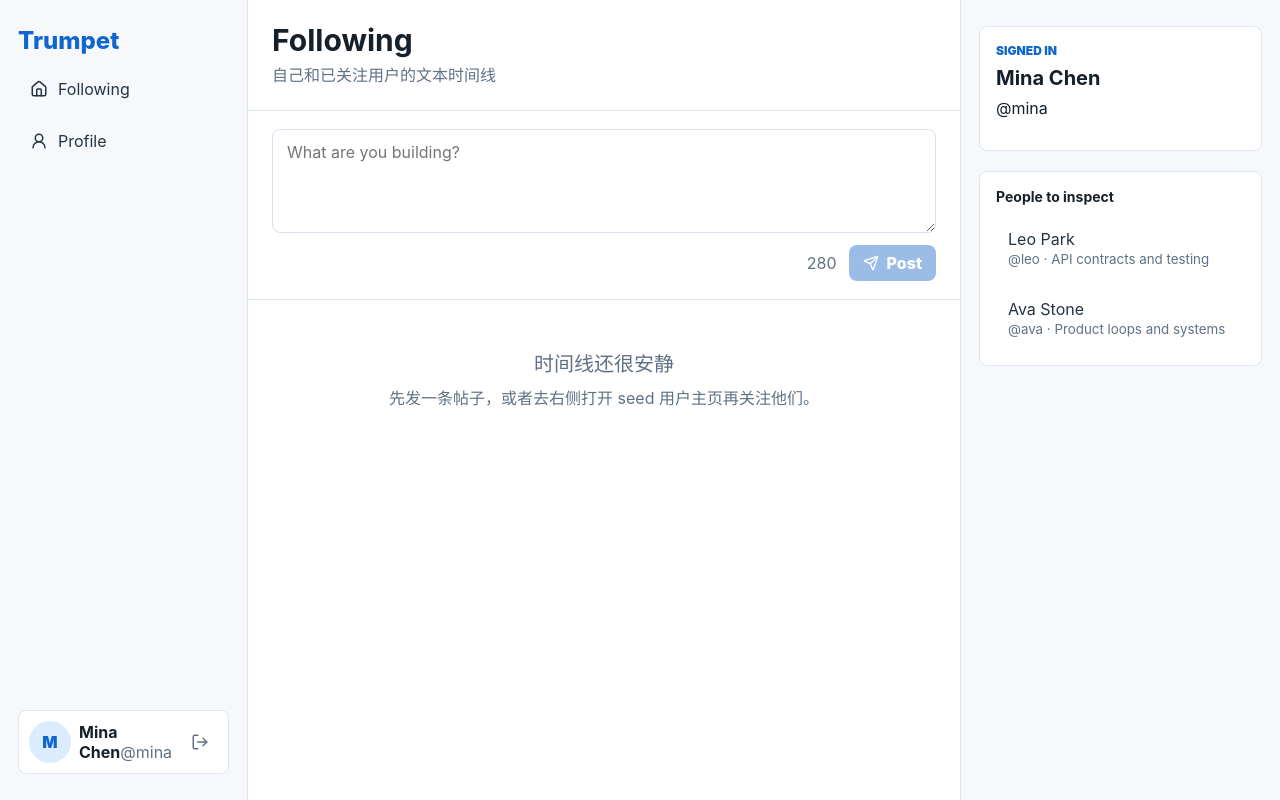
Test: App profile interactions › opens a profile and follows the visible user
Click the button "Leo Park @leo · API contracts and testing" at (1120, 248), box [996,217,1245,279]
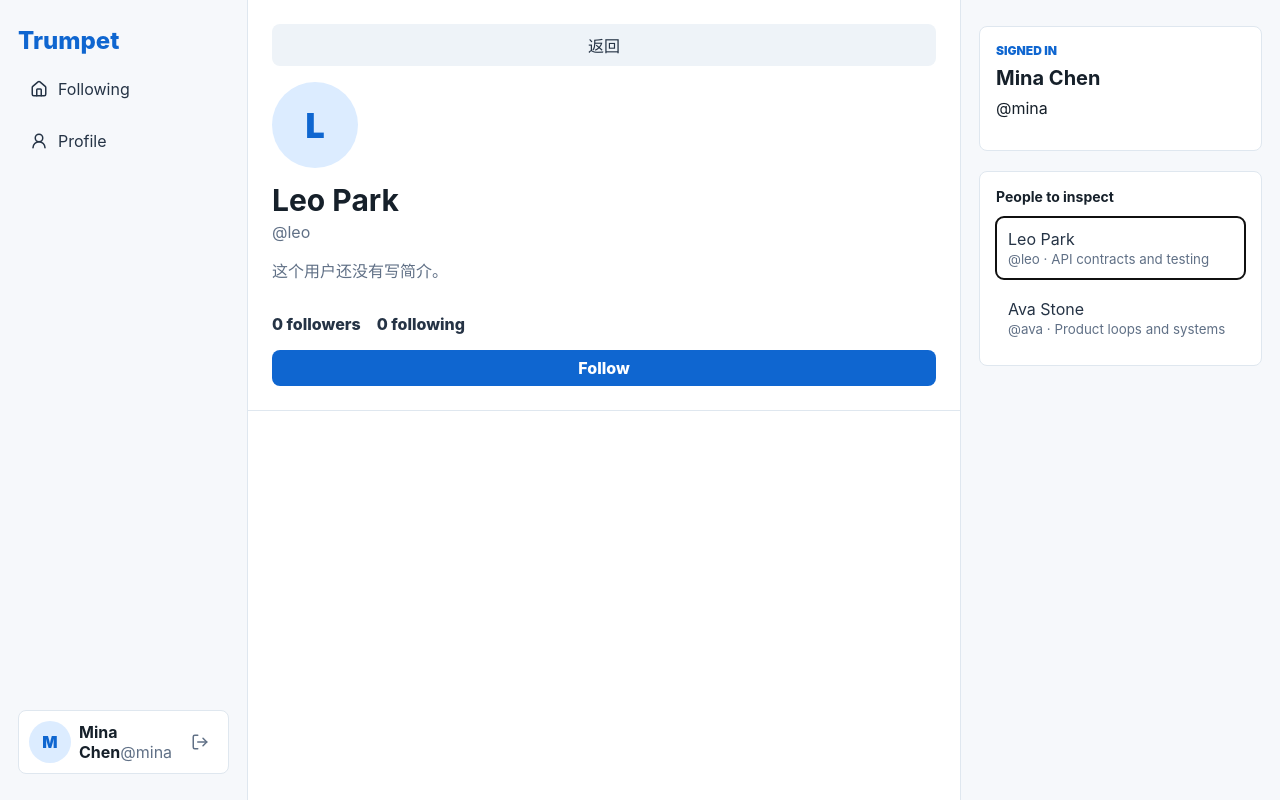
Result: the heading "Leo Park" is shown at [272,182,399,218]
Click the button "Follow" at (604, 368), box [272,350,936,386]
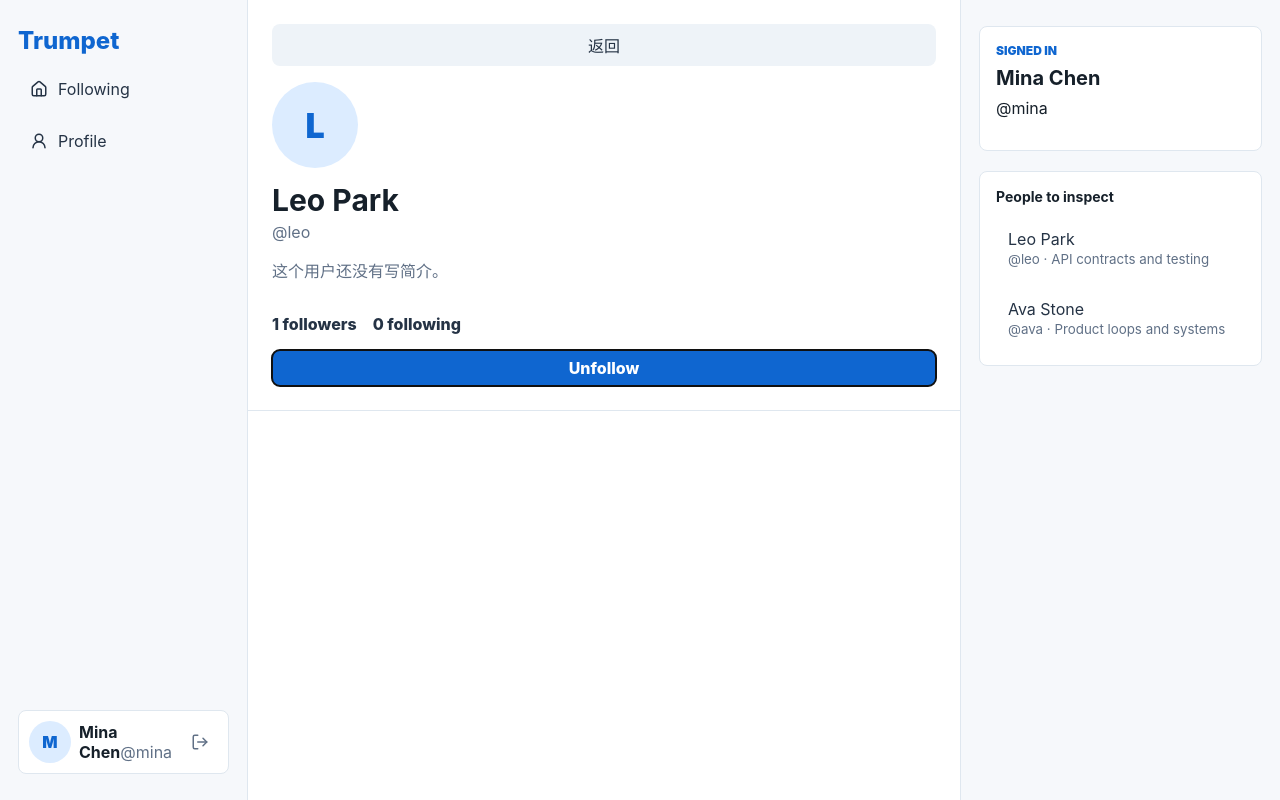
Result: the button "Unfollow" is shown at [272,350,936,386]
